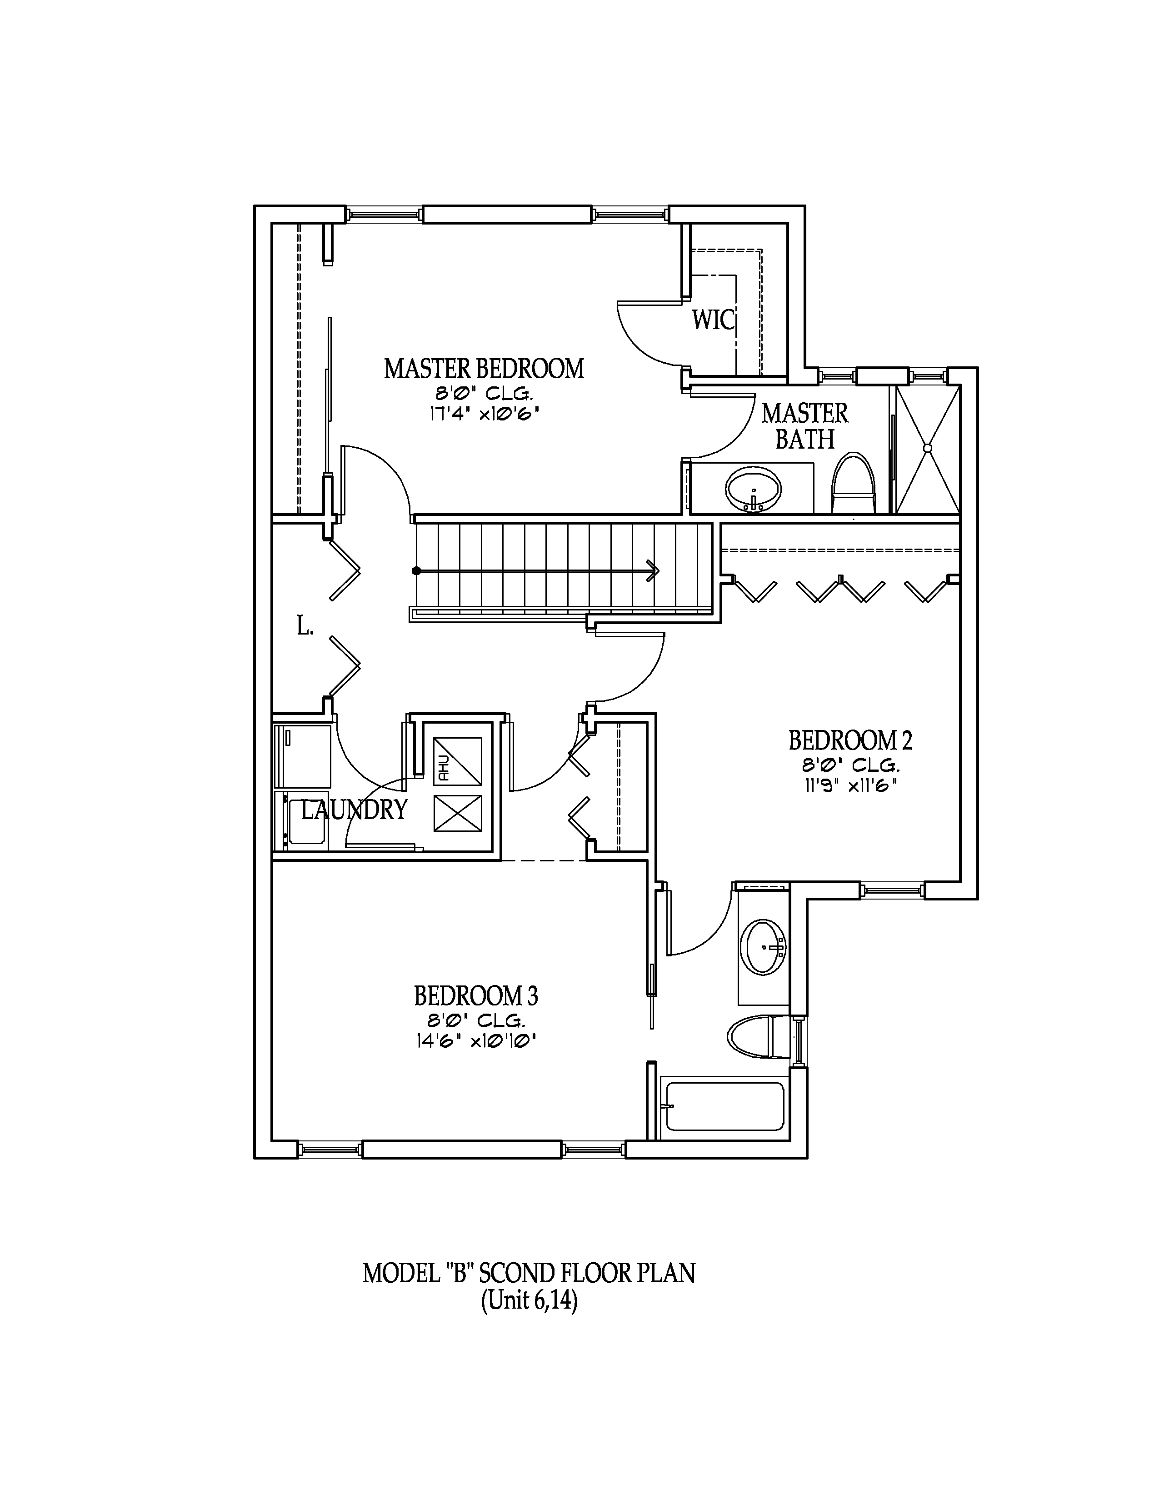bath tab: (660, 1075, 790, 1142)
ceramic sink: (739, 918, 786, 976), (726, 466, 782, 513)
door: (586, 628, 665, 713), (335, 444, 414, 525), (345, 774, 425, 853), (331, 712, 411, 791), (505, 712, 583, 793), (679, 387, 756, 463), (617, 295, 692, 371), (664, 881, 735, 958)
toilet: (726, 1013, 790, 1060), (830, 452, 877, 514)
window: (343, 202, 426, 226), (589, 203, 671, 226), (558, 1138, 628, 1162), (295, 1138, 364, 1162), (858, 880, 926, 902), (788, 1013, 810, 1070), (906, 365, 950, 388), (814, 366, 860, 388)
